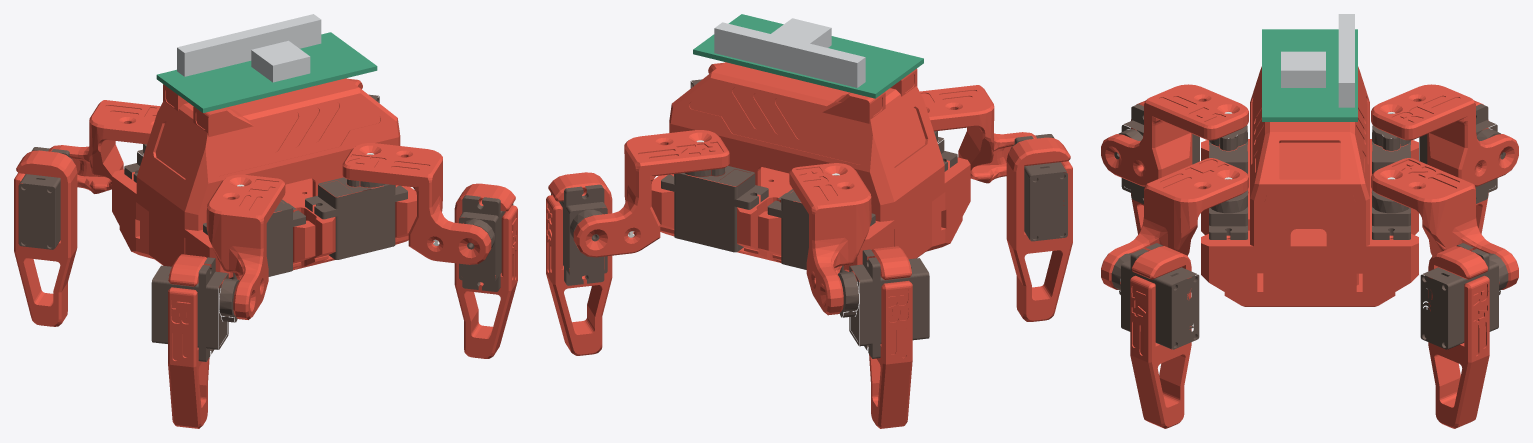
The model's file is molty.glb.
3 renders of one model, left to right at view 1: azimuth 30°, elevation 25°; view 2: azimuth 150°, elevation 25°; view 3: azimuth 270°, elevation 25°, orthographic. The views are drawn at different scales.
Parts seen in each view (by area): view 1: body, foot_l3, foot_r3, femur_l2, foot_l4, femur_l1, femur_r1; view 2: body, foot_r3, foot_l3, femur_r2, foot_r4, femur_r1, femur_l1; view 3: body, foot_r4, foot_l4, femur_r1, femur_l1, femur_r2, femur_l2, foot_l3, foot_r3.
Part boxes in pixels (left/top/right/bottom): body: left=112, top=14, right=416, bottom=287; foot_l3: left=151, top=254, right=238, bottom=428; foot_r3: left=14, top=147, right=77, bottom=326; femur_l2: left=342, top=143, right=491, bottom=264; foot_l4: left=454, top=183, right=517, bottom=358; femur_l1: left=206, top=174, right=285, bottom=319; femur_r1: left=48, top=100, right=160, bottom=193; body: left=651, top=14, right=970, bottom=281; foot_r3: left=838, top=246, right=929, bottom=428; foot_l3: left=1006, top=134, right=1072, bottom=321; femur_r2: left=573, top=130, right=729, bottom=257; foot_r4: left=546, top=172, right=612, bottom=355; femur_r1: left=789, top=163, right=871, bottom=315; femur_l1: left=920, top=85, right=1036, bottom=183; body: left=1201, top=14, right=1418, bottom=306; foot_r4: left=1420, top=243, right=1508, bottom=428; foot_l4: left=1111, top=243, right=1199, bottom=428; femur_r1: left=1371, top=84, right=1518, bottom=186; femur_l1: left=1101, top=84, right=1248, bottom=186; femur_r2: left=1371, top=158, right=1518, bottom=289; femur_l2: left=1101, top=158, right=1248, bottom=289; foot_l3: left=1114, top=100, right=1199, bottom=234; foot_r3: left=1419, top=100, right=1505, bottom=233.
Size of the model in its own units: 135 by 103 by 130.
